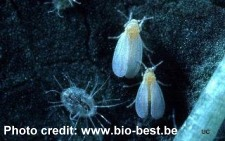whitefly: (107, 6, 149, 79), (135, 61, 166, 120)
